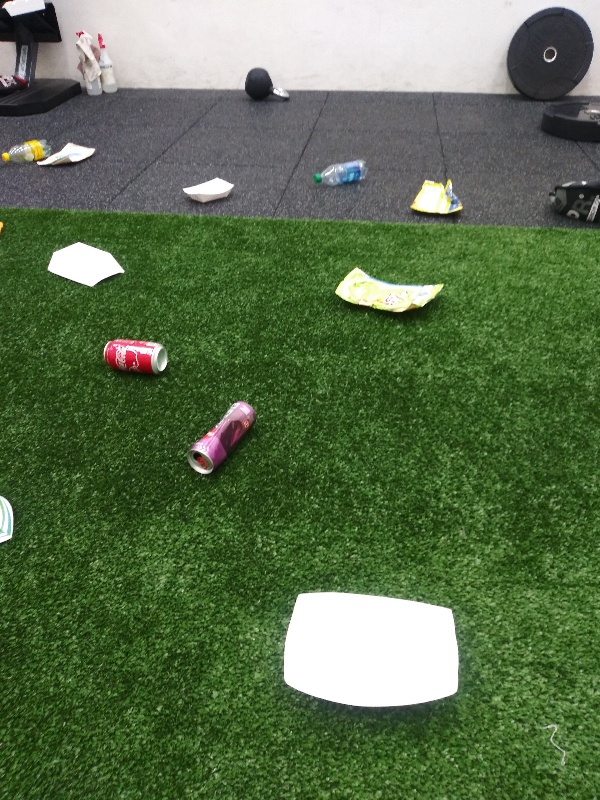bag: (327, 265, 448, 318), (403, 178, 468, 220), (34, 138, 100, 170)
bottle: (1, 134, 55, 170), (311, 157, 372, 188)
can: (183, 397, 257, 480), (98, 335, 170, 376)
plate: (281, 590, 463, 710), (44, 237, 129, 291), (176, 176, 236, 206), (1, 489, 14, 549)
